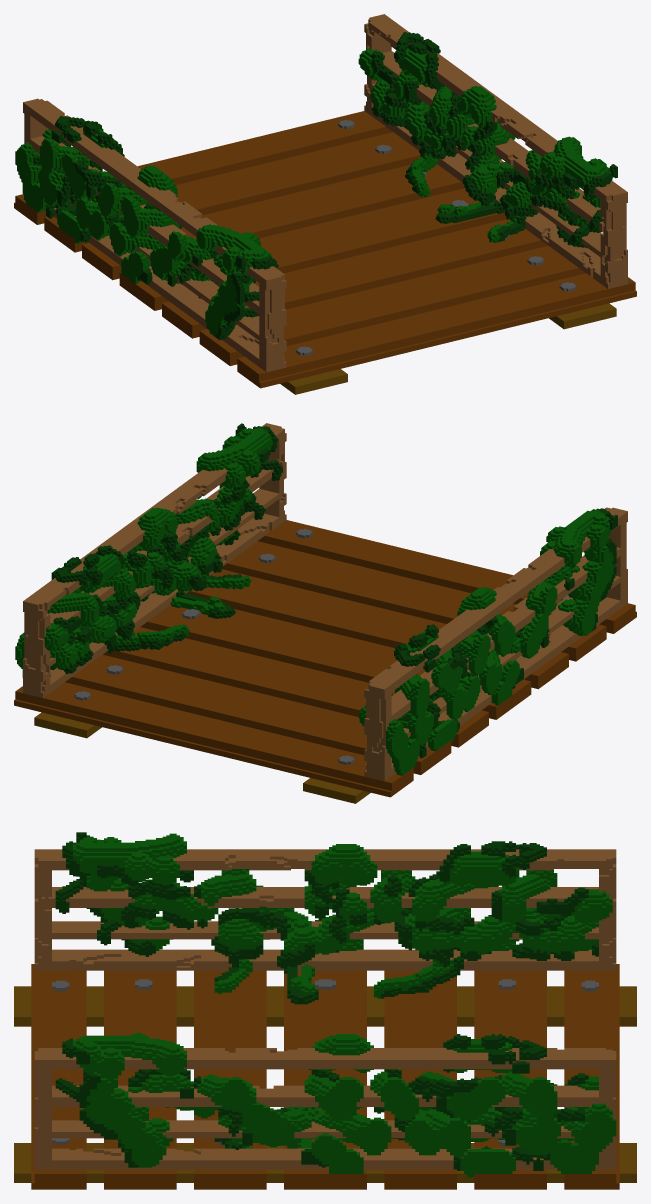
File: LakeAndBridge-1-Bridge.obj
3 renders of one model, top to bottom at view 1: azimuth 30°, elevation 25°; view 2: azimuth 150°, elevation 25°; view 3: azimuth 270°, elevation 25°, orthographic. The views are drawn at different scales.
Parts seen in each view (by area): view 1: Bridge; view 2: Bridge; view 3: Bridge.
Part boxes in pixels (left/top/right/bottom): Bridge: left=14, top=14, right=636, bottom=394; Bridge: left=14, top=423, right=636, bottom=803; Bridge: left=14, top=832, right=636, bottom=1189.
Bounding box in the file's own units: 15 × 4.7 × 18.
Materials: 1 (1 with a texture image).
